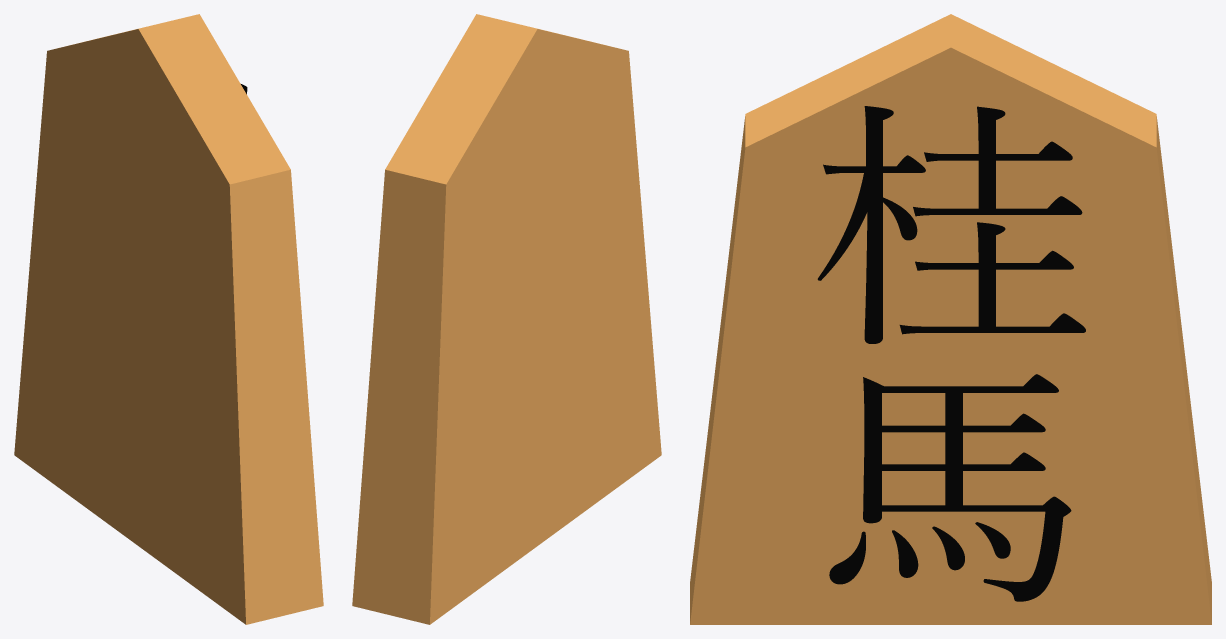
File: JapaneseChessKnight.fbx
The picture shows the model from 3 angles, left to right: view 1: azimuth 30°, elevation 25°; view 2: azimuth 150°, elevation 25°; view 3: azimuth 270°, elevation 25°; orthographic projection. The views are drawn at different scales.
Parts seen in each view (by area): view 1: Cube; view 2: Cube; view 3: Cube, Text.
Part boxes in pixels (x1=…): Cube: x1=14, y1=14, x2=323, y2=624; Cube: x1=352, y1=14, x2=661, y2=624; Cube: x1=690, y1=14, x2=1211, y2=624; Text: x1=817, y1=106, x2=1085, y2=601.
Size of the model in its own units: 39.26 by 242 by 200.
Materials: 2 (2 with a texture image).
